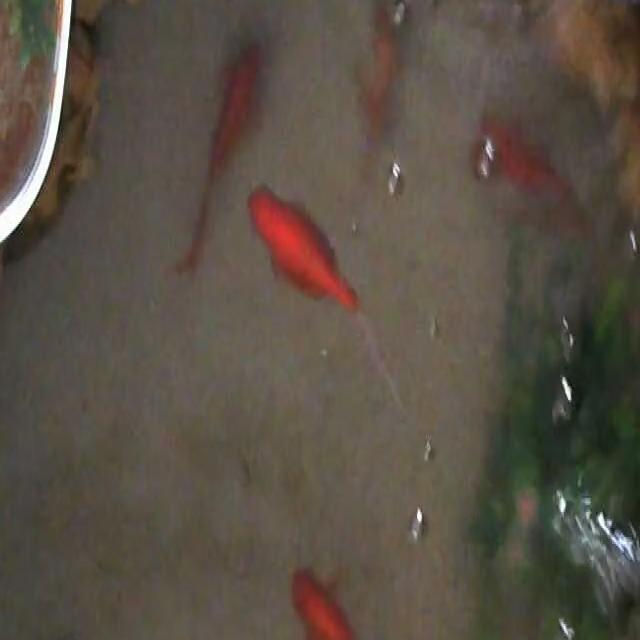fish: (253, 182, 409, 417), (170, 31, 264, 276), (269, 546, 393, 640), (473, 116, 577, 210), (354, 1, 401, 160)
